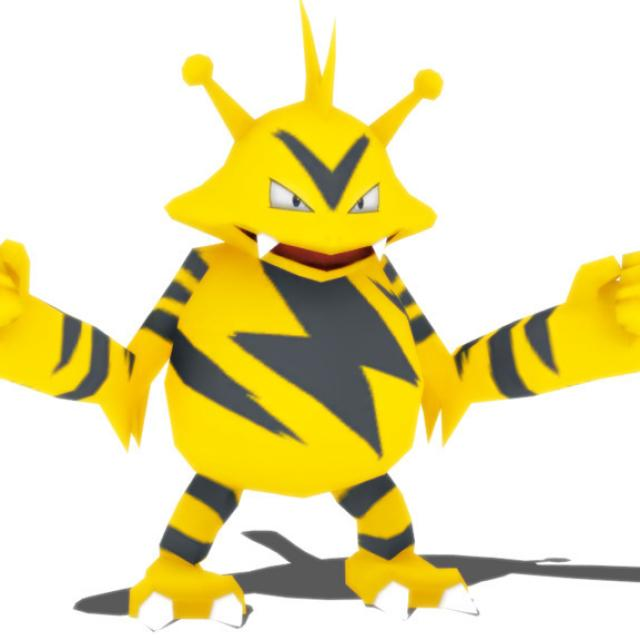Electabuzz: (88, 52, 500, 628)
